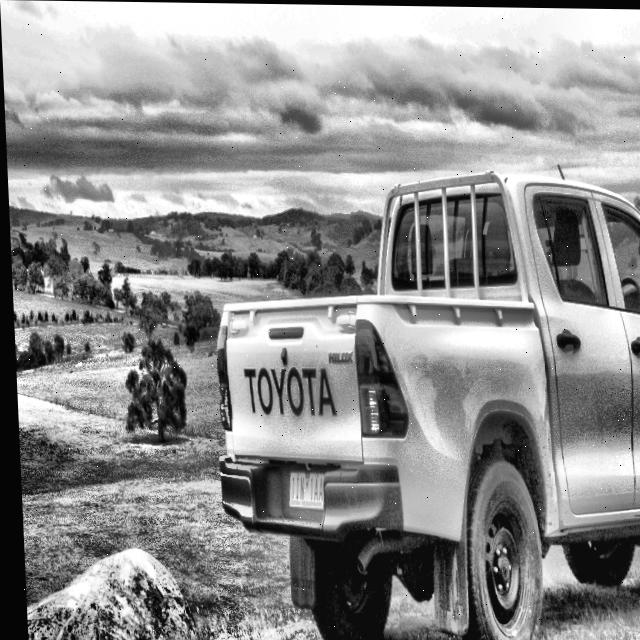light_vehicle: (195, 146, 640, 640)
